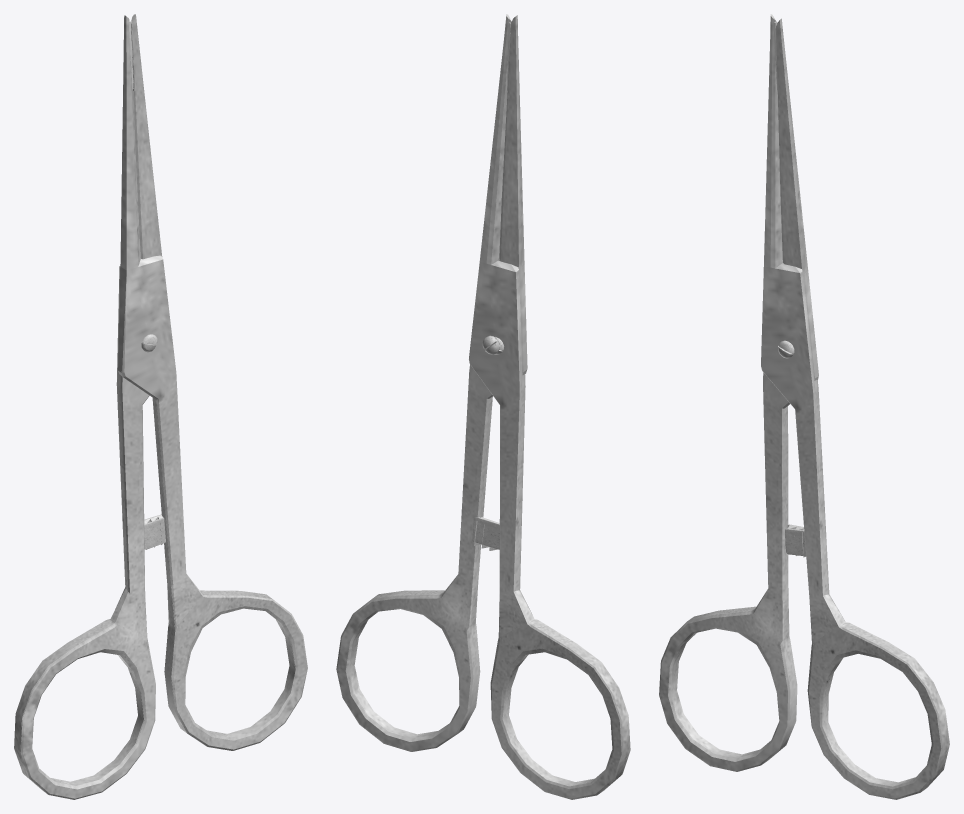
The model's file is needledriver2.fbx.
3 views of the same model, side by side, from view 1: azimuth 30°, elevation 25°; view 2: azimuth 150°, elevation 25°; view 3: azimuth 330°, elevation 25° (orthographic).
Parts seen in each view (by area): view 1: Part01, Part 02, Cube.007; view 2: Part 02, Part01, Cube.001; view 3: Part01, Part 02, Cube.007.
Part boxes in pixels (x1=…): Part01: x1=118, y1=15, x2=307, y2=750; Part 02: x1=14, y1=14, x2=162, y2=799; Cube.007: x1=144, y1=517, x2=165, y2=549; Part 02: x1=469, y1=14, x2=630, y2=799; Part01: x1=336, y1=15, x2=527, y2=751; Cube.001: x1=472, y1=517, x2=499, y2=549; Part01: x1=761, y1=14, x2=949, y2=799; Part 02: x1=659, y1=18, x2=818, y2=771; Cube.007: x1=785, y1=528, x2=806, y2=556.
Size of the model in its own units: 7.09 by 18.14 by 0.6098.
